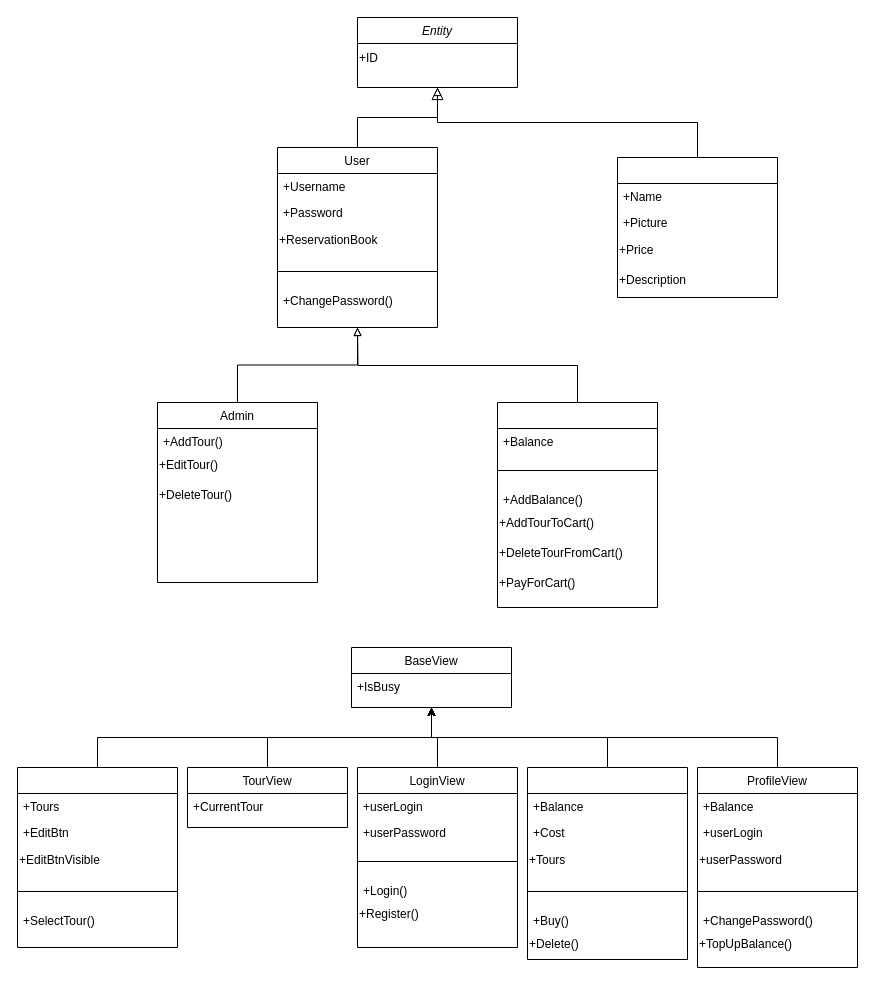
Image size: 875x985. Some labels were removed from this diagram. Each missing label, with the box of its shape:
CartView: (526, 766, 688, 960)
Customer: (496, 402, 658, 608)
MainMenuView: (16, 766, 178, 948)
Tour: (616, 156, 778, 298)
